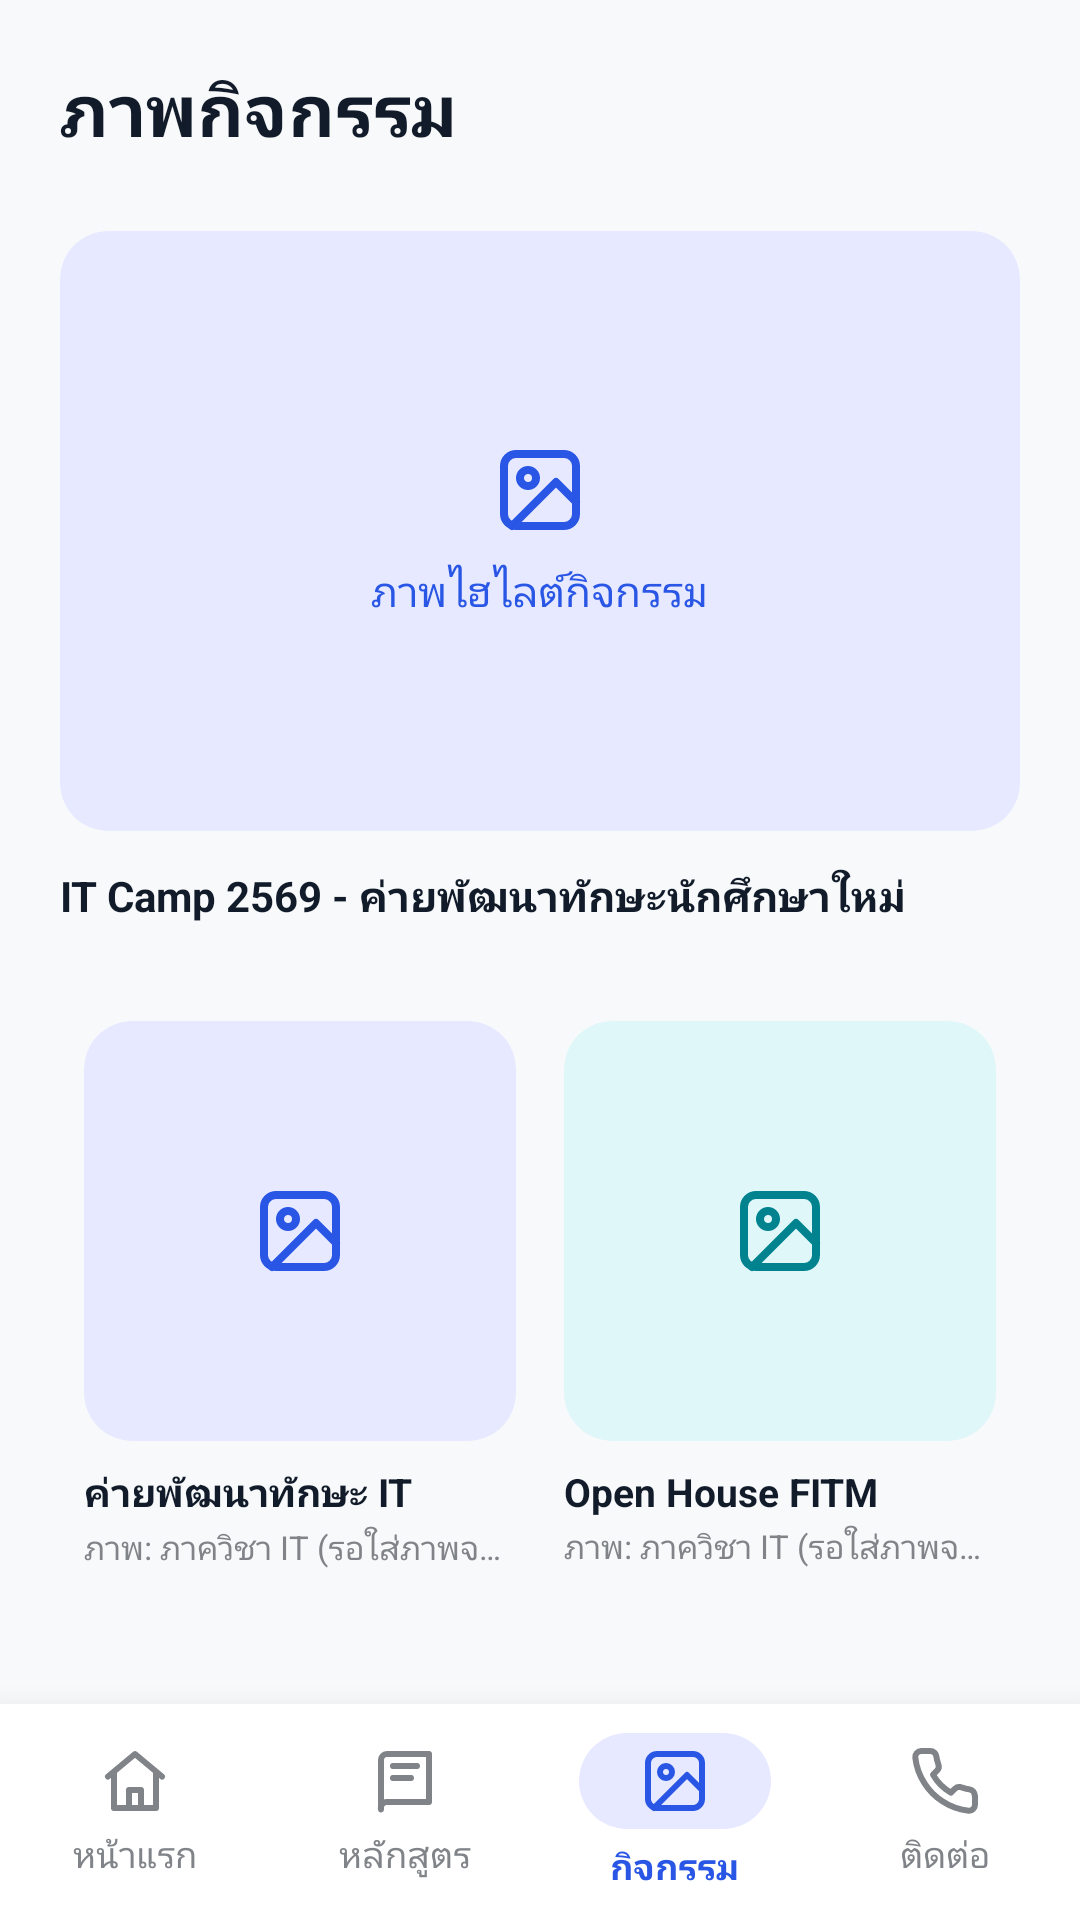

Named icons in this screenshot (1080px x 1920px) and their bounding boxes, [x1=x1, y1=y1, x2=x2, y2=y2]:
phone: [x1=912, y1=1748, x2=978, y2=1814]
